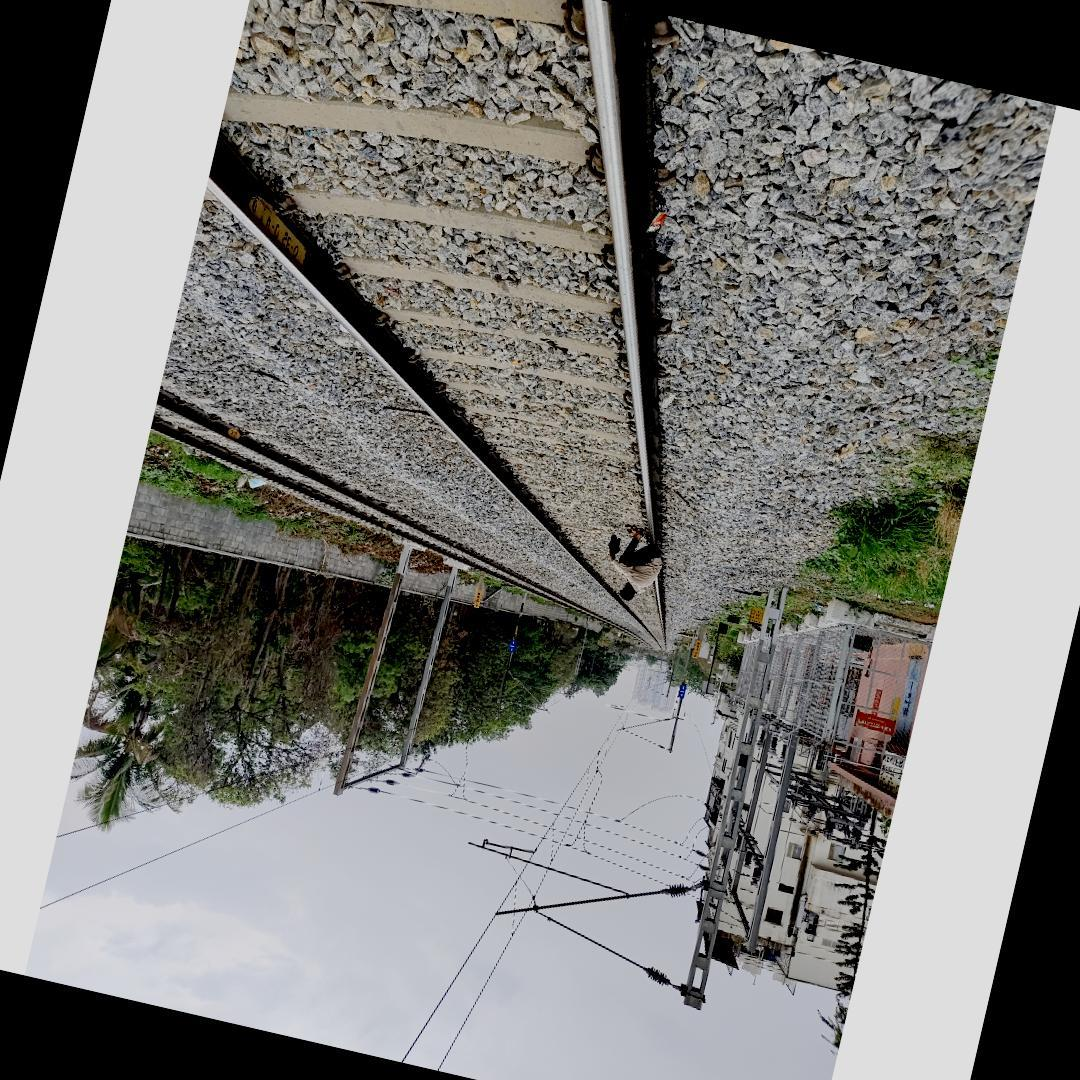sitting: (598, 520, 674, 608)
track: (191, 0, 708, 649)
